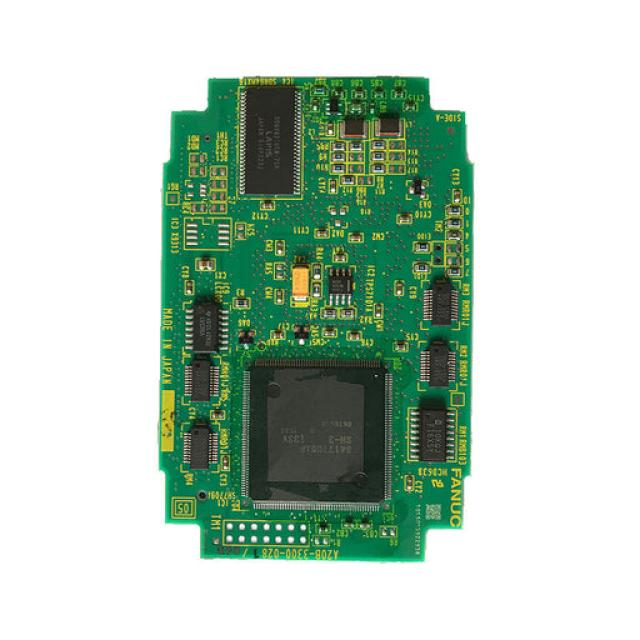pcb: (157, 74, 475, 562)
